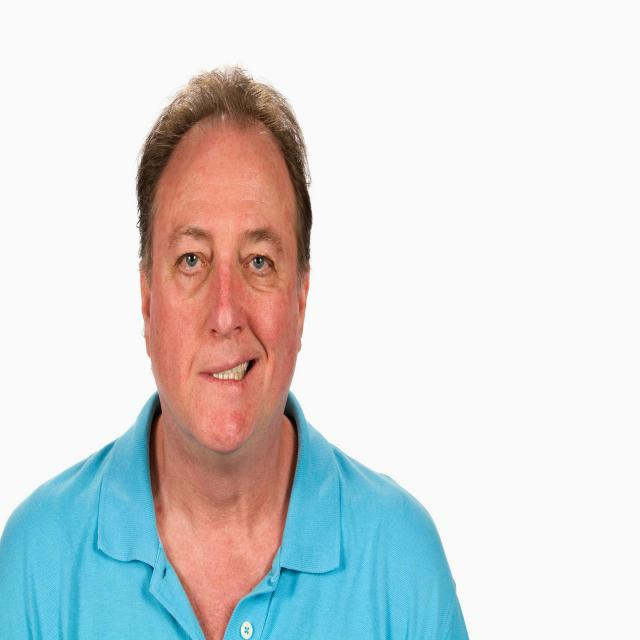stroke_face: (154, 135, 291, 453)
